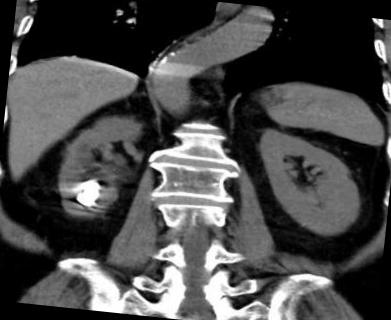Tas_Var: (70, 173, 110, 210)
